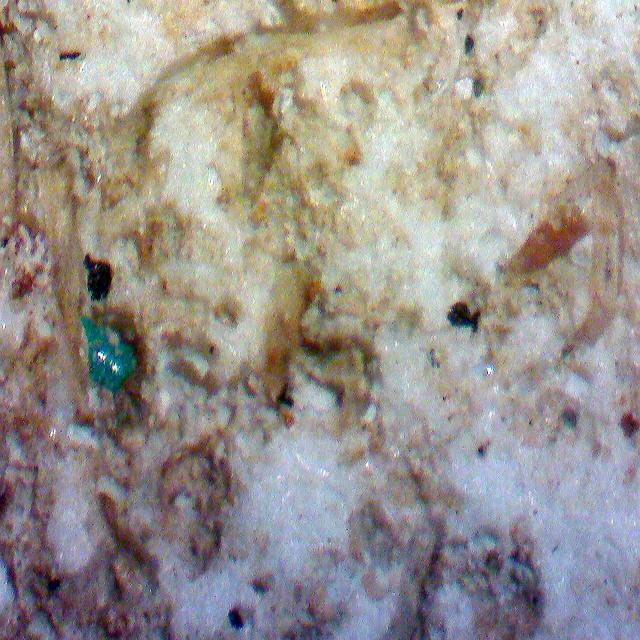microplastic: (81, 318, 141, 395)
